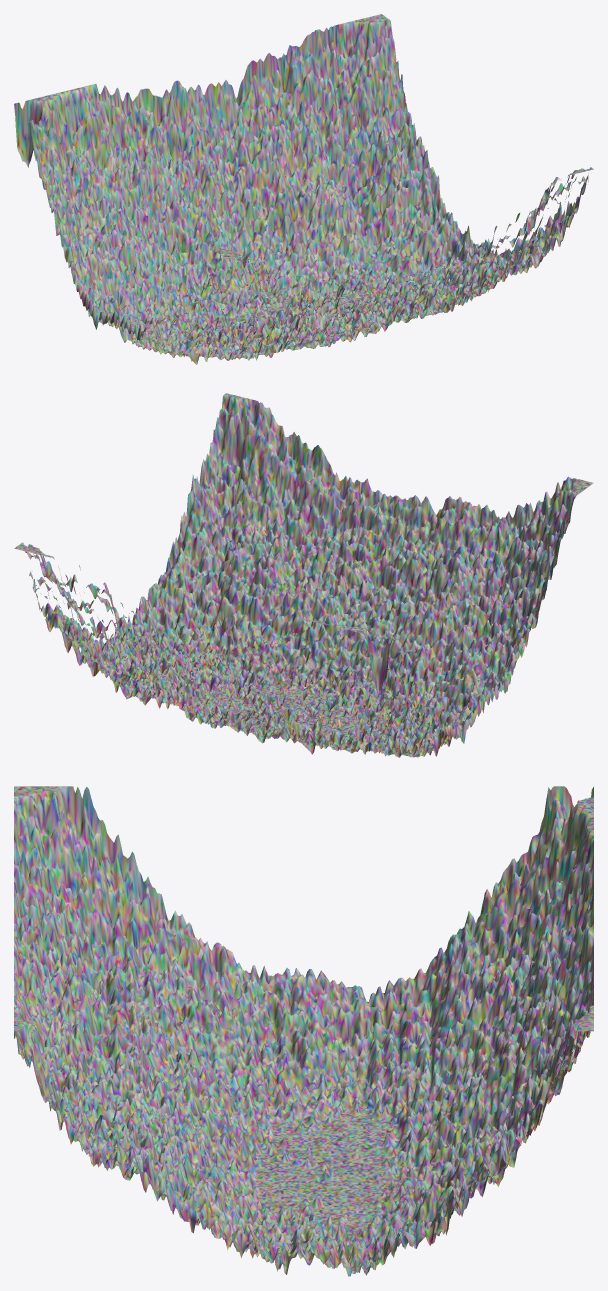
Rendered from dsm_28b897dbd6_mesh.glb.
3 renders of one model, top to bottom at view 1: azimuth 30°, elevation 25°; view 2: azimuth 150°, elevation 25°; view 3: azimuth 270°, elevation 25°, orthographic. The views are drawn at different scales.
Visible parts, largest first — view 1: geometry_0; view 2: geometry_0; view 3: geometry_0.
Part boxes in pixels (bbox=[...]): geometry_0: bbox=[14, 14, 593, 364]; geometry_0: bbox=[14, 393, 593, 757]; geometry_0: bbox=[14, 786, 593, 1276].
Bounding box in the file's own units: 2 × 1 × 2.
